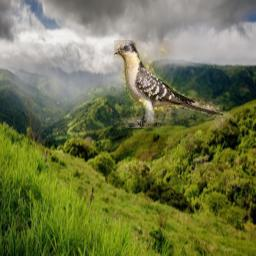Cuckoo: (114, 40, 223, 128)
